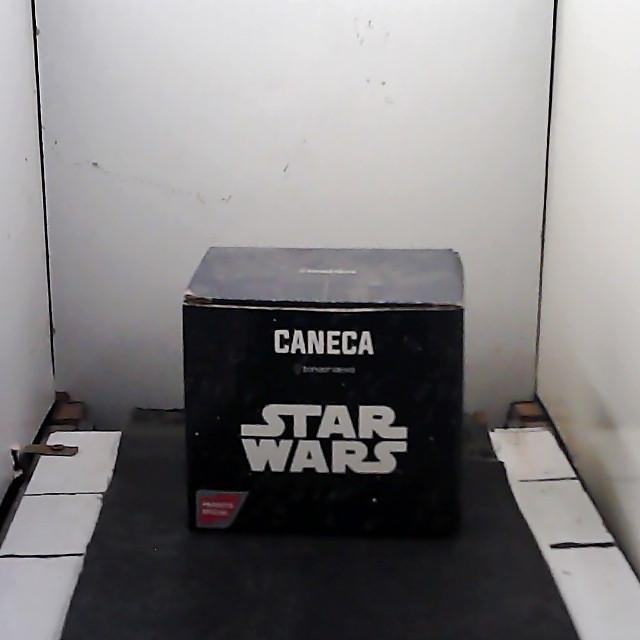papel: (184, 247, 464, 535)
